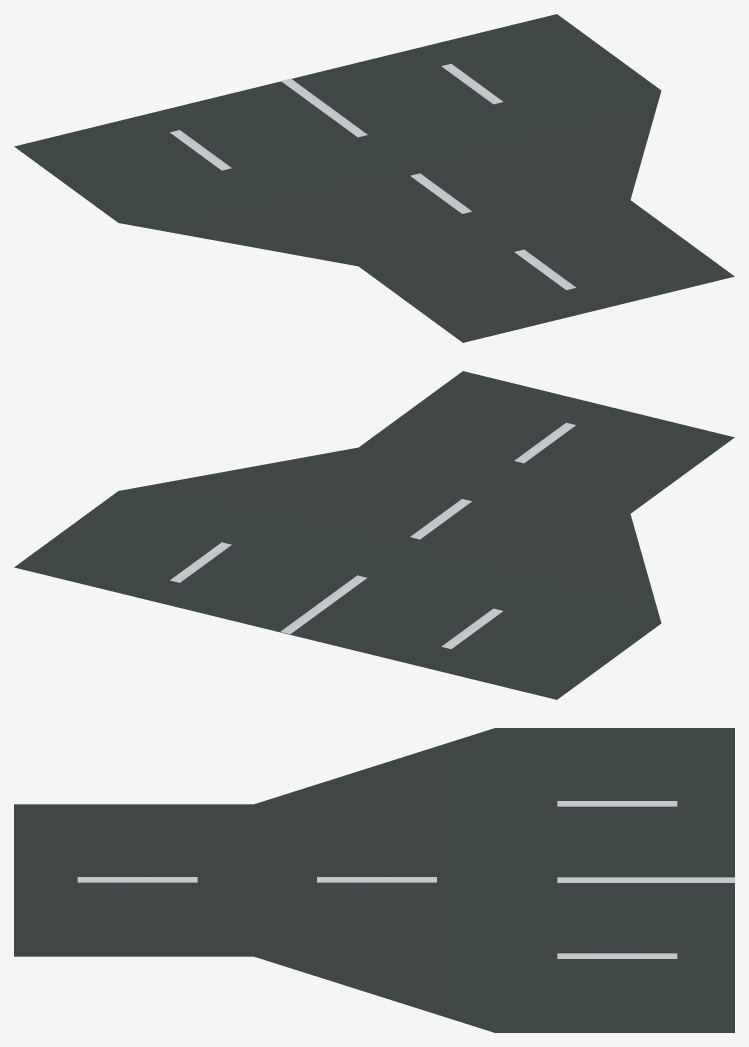
Rendered from Road_2_201.fbx.
3 renders of one model, top to bottom at view 1: azimuth 30°, elevation 25°; view 2: azimuth 150°, elevation 25°; view 3: azimuth 270°, elevation 25°, orthographic. The views are drawn at different scales.
Visible parts, largest first — view 1: Road_2_201; view 2: Road_2_201; view 3: Road_2_201.
Part boxes in pixels (x1,y1,x2,y2): Road_2_201: (14, 14, 734, 342); Road_2_201: (14, 371, 734, 699); Road_2_201: (14, 728, 734, 1032).
Bounding box in the file's own units: 1800 × 1.66 × 1800.
